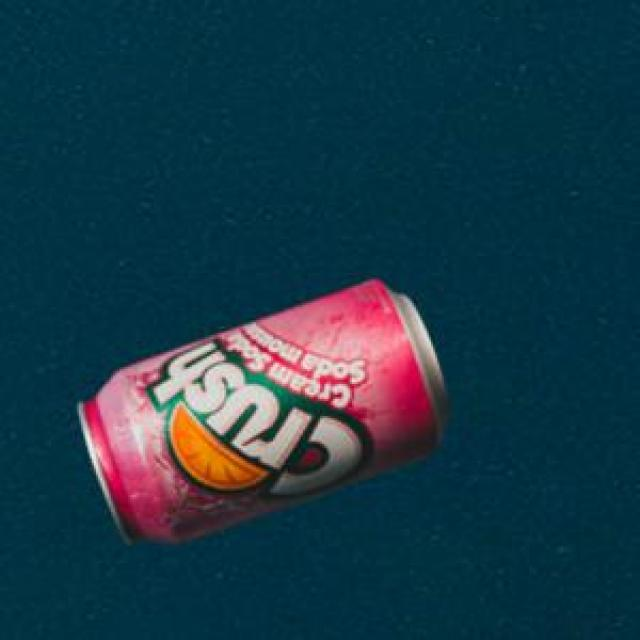Can: (74, 276, 447, 541)
